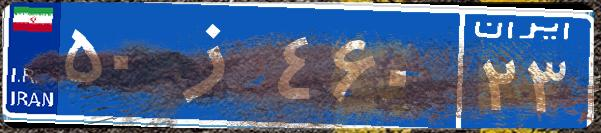0: (385, 28, 445, 110), (110, 28, 158, 105)
2: (475, 38, 525, 113)
3: (525, 38, 570, 115)
4: (273, 28, 330, 110)
5: (57, 26, 110, 107)
6: (330, 28, 385, 110)
ز: (158, 15, 273, 115)
